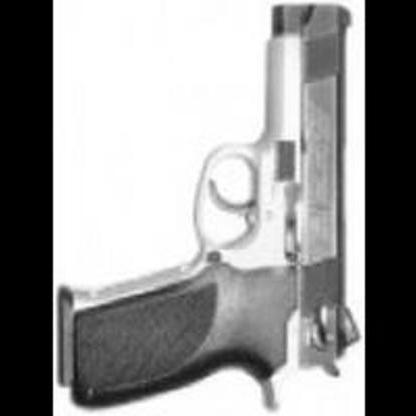weapon: (56, 4, 360, 416)
